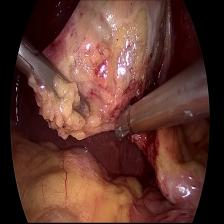Clipper: (110, 102, 131, 143)
Grasper: (18, 38, 100, 126)
